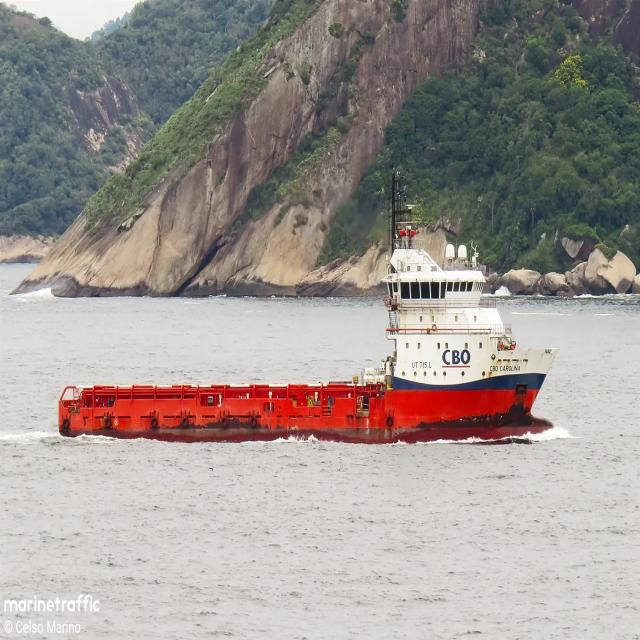Offshore: (58, 172, 556, 442)
